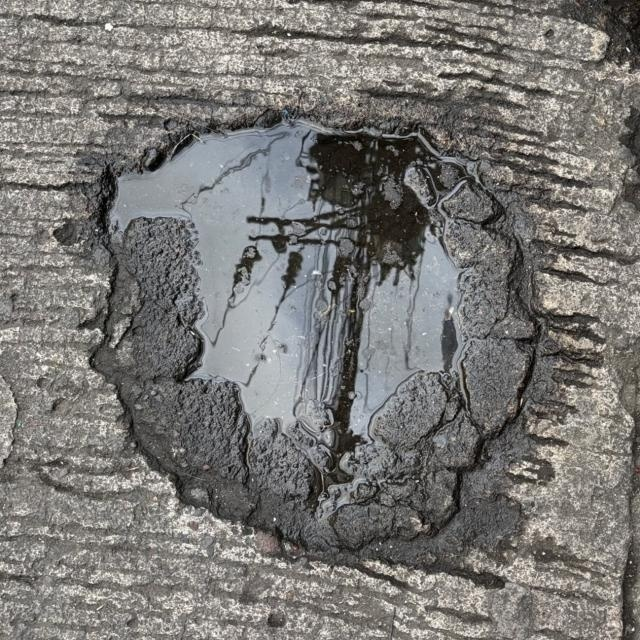pothole: (39, 93, 578, 558)
